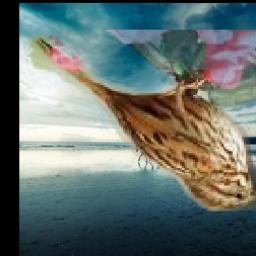Sparrow: (25, 31, 256, 215)
